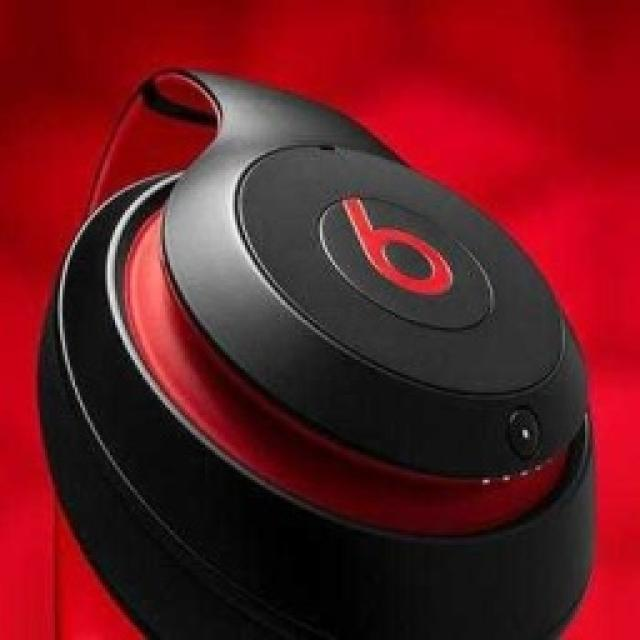headphones: (35, 62, 597, 638)
